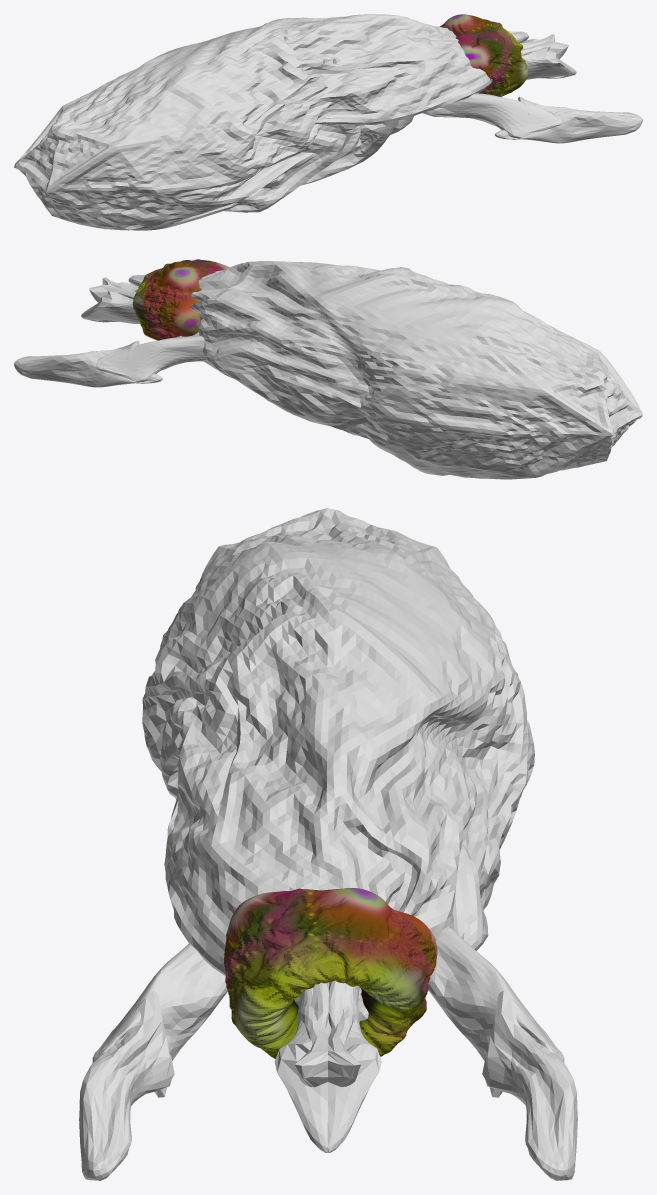
Rendered from AlienMerged.fbx.
The picture shows the model from 3 angles, top to bottom: view 1: azimuth 30°, elevation 25°; view 2: azimuth 150°, elevation 25°; view 3: azimuth 270°, elevation 25°; orthographic projection. The views are drawn at different scales.
Parts seen in each view (by area): view 1: AlienMerged; view 2: AlienMerged; view 3: AlienMerged.
Boxes of the visible parts, x1,y1,x2,y2 form: AlienMerged: (14,14,642,230); AlienMerged: (14,259,642,479); AlienMerged: (79,508,577,1180).
Size of the model in its own units: 7457 by 2184 by 2905.
